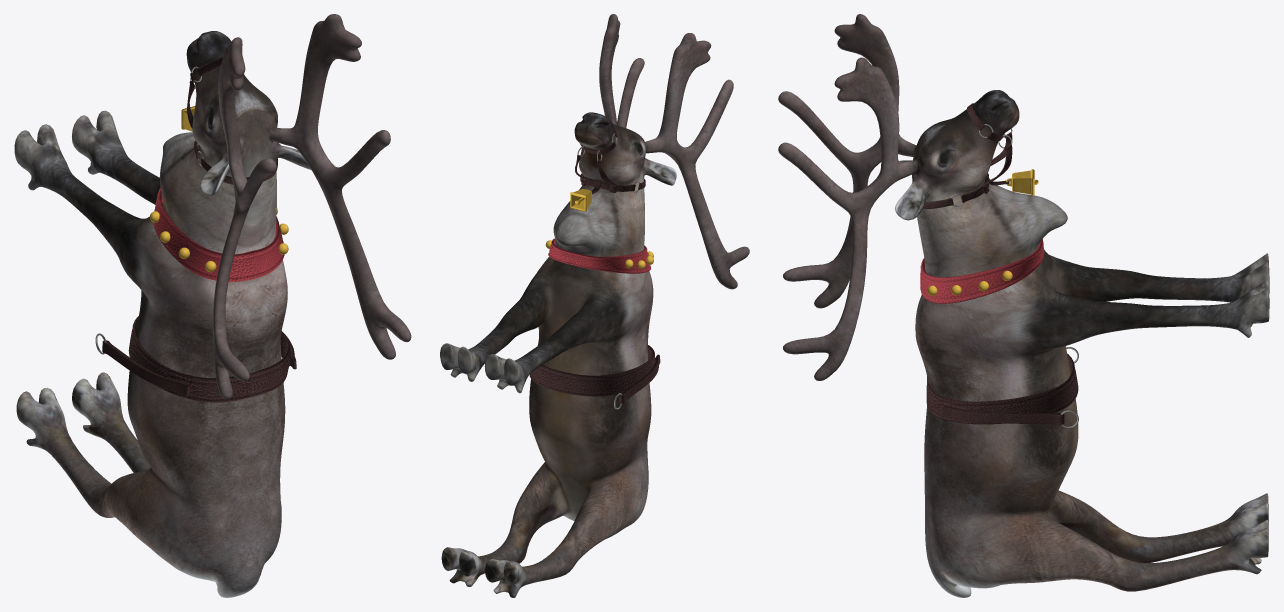
File: reindeer.obj
The picture shows the model from 3 angles, left to right: view 1: azimuth 30°, elevation 25°; view 2: azimuth 150°, elevation 25°; view 3: azimuth 270°, elevation 25°; orthographic projection. The views are drawn at different scales.
Parts seen in each view (by area): view 1: 12146_reindeer_deer, 12146_reindeer_leather, 12146_reindeer_redleather; view 2: 12146_reindeer_deer, 12146_reindeer_leather, 12146_reindeer_redleather, 12146_reindeer_bell; view 3: 12146_reindeer_deer, 12146_reindeer_leather, 12146_reindeer_redleather.
Part boxes in pixels (<box>): 12146_reindeer_deer: <box>14,14,411,597</box>; 12146_reindeer_leather: <box>102,57,296,402</box>; 12146_reindeer_redleather: <box>153,188,284,281</box>; 12146_reindeer_deer: <box>440,14,749,597</box>; 12146_reindeer_leather: <box>529,118,660,403</box>; 12146_reindeer_redleather: <box>548,238,650,273</box>; 12146_reindeer_bell: <box>570,189,591,211</box>; 12146_reindeer_deer: <box>778,14,1269,597</box>; 12146_reindeer_leather: <box>923,103,1078,424</box>; 12146_reindeer_redleather: <box>920,239,1044,303</box>.
Size of the model in its own units: 54.5 by 182 by 145.
Materials: 5 (4 with a texture image).
